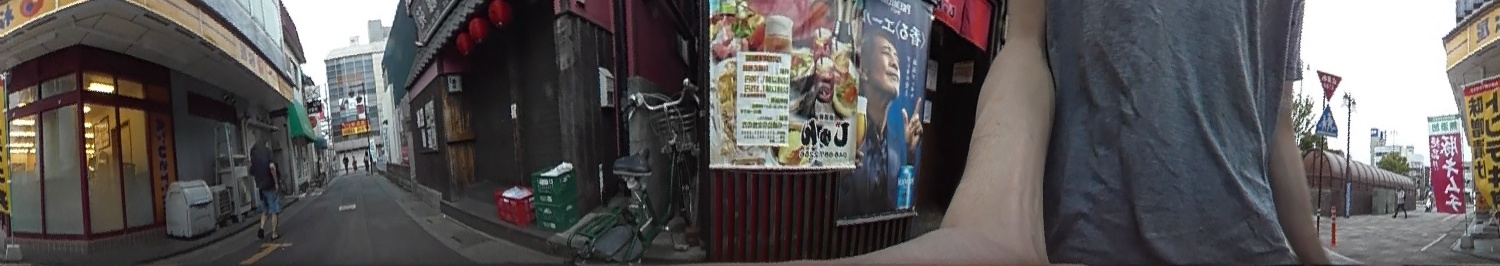difficult_person: (1395, 185, 1407, 218), (314, 156, 323, 184)
person: (249, 130, 281, 240)
